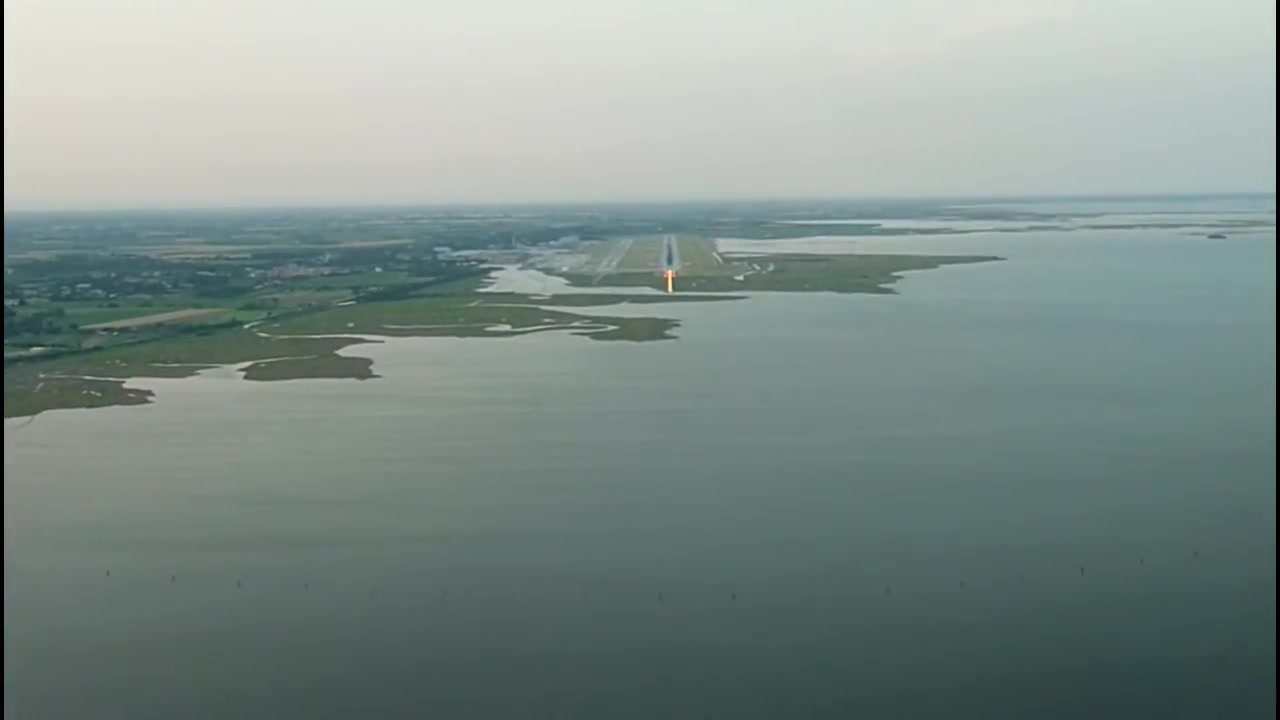runway: (593, 237, 636, 273), (656, 234, 683, 270)
